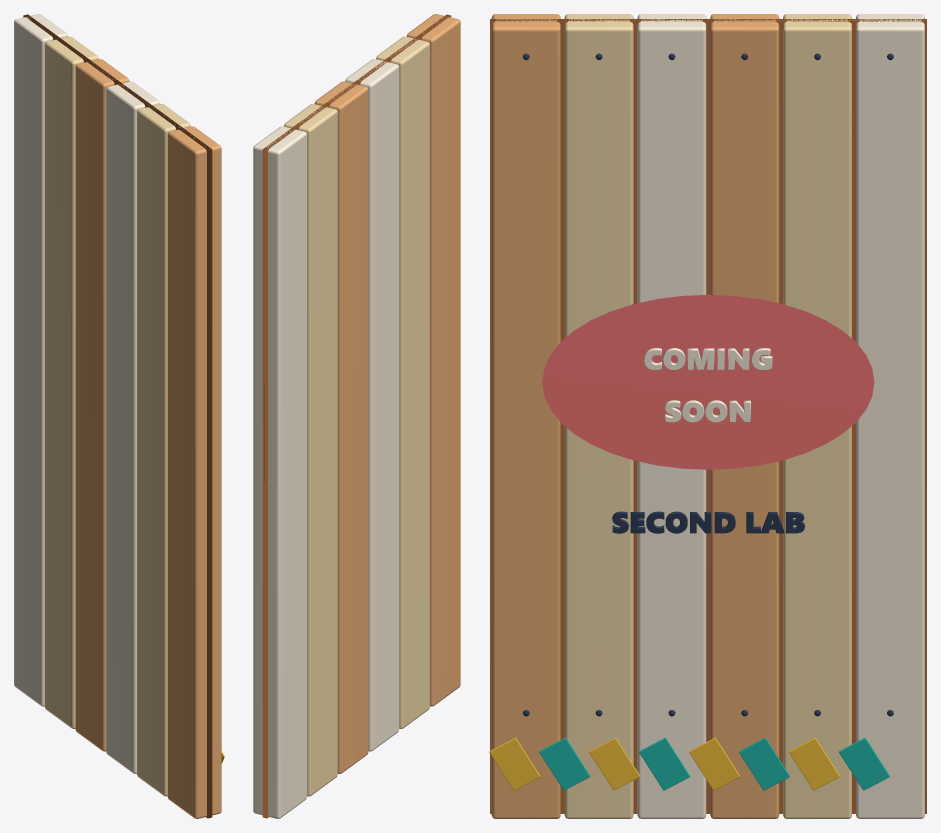
Rendered from PartitionLab2.fbx.
3 views of the same model, side by side, from view 1: azimuth 30°, elevation 25°; view 2: azimuth 150°, elevation 25°; view 3: azimuth 270°, elevation 25° (orthographic). The views are drawn at different scales.
Visible parts, largest first — view 1: PartitionLab2 mesh; view 2: PartitionLab2 mesh; view 3: PartitionLab2 mesh.
Part boxes in pixels (box(x1,y1,x2,y2)): PartitionLab2 mesh: box(14, 14, 224, 818); PartitionLab2 mesh: box(253, 14, 460, 818); PartitionLab2 mesh: box(489, 14, 926, 818).
Bounding box in the file's own units: 0.1395 × 2.8 × 1.4.
